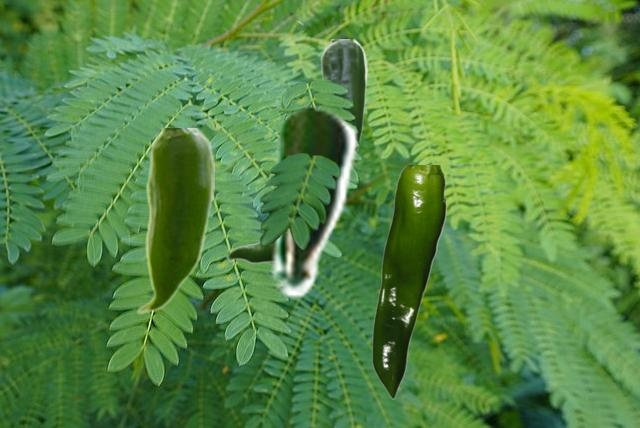green_chili: (226, 39, 367, 263), (266, 104, 358, 298), (371, 165, 445, 398), (135, 128, 213, 314)
